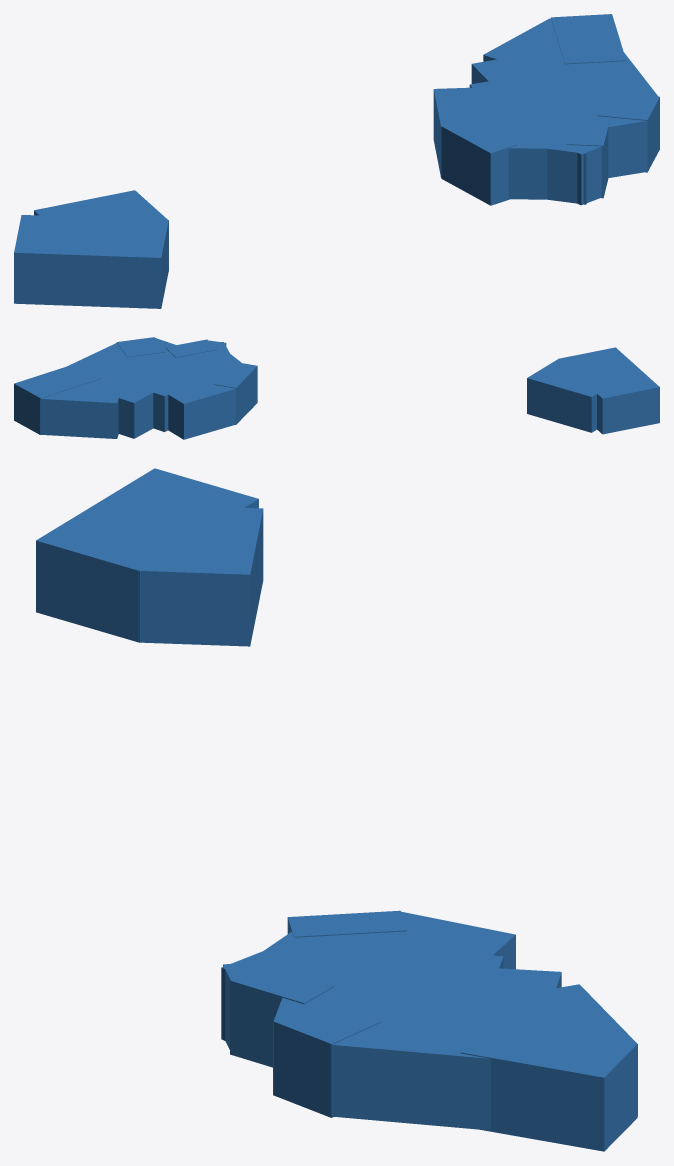
Rendered from p_Puddle_IJ.fbx.
3 renders of one model, top to bottom at view 1: azimuth 30°, elevation 25°; view 2: azimuth 150°, elevation 25°; view 3: azimuth 270°, elevation 25°, orthographic. The views are drawn at different scales.
Visible parts, largest first — view 1: Water__10_, Water__5_, Water__8_, Water__11_, Water__12_, Water__4_, Water__9_, Water__16_, Water__7_, Water__15_, Water__13_, Water__17_ (+2 smaller); view 2: Water__10_, Water__11_, Water__5_, Water__7_, Water__4_, Water__12_, Water__13_, Water__8_, Water__6_, Water__15_, Water__17_, Water__9_ (+1 smaller); view 3: Water__10_, Water__12_, Water__11_, Water__6_, Water__5_, Water__15_, Water__17_, Water__4_, Water__7_, Water__13_, Water__8_, Water__9_ (+1 smaller).
Boxes of the visible parts, x1,y1,x2,y2 form: Water__10_: (14,215,168,308); Water__5_: (469,64,647,177); Water__8_: (441,117,516,205); Water__11_: (34,190,168,271); Water__12_: (551,14,626,64); Water__4_: (433,86,504,177); Water__9_: (494,132,564,199); Water__16_: (545,133,591,204); Water__7_: (483,18,560,68); Water__15_: (596,92,659,172); Water__13_: (471,49,585,83); Water__17_: (567,117,610,198); Water__10_: (559,347,659,434); Water__11_: (527,358,623,432); Water__5_: (91,338,227,431); Water__7_: (41,384,121,438); Water__4_: (158,373,235,439); Water__12_: (14,363,101,434); Water__13_: (84,373,154,438); Water__8_: (214,362,257,424); Water__6_: (67,343,130,373); Water__15_: (116,337,165,357); Water__17_: (165,339,217,357); Water__9_: (203,349,241,372); Water__10_: (36,468,258,642); Water__12_: (460,1018,637,1151); Water__11_: (138,504,263,646); Water__6_: (330,1025,490,1130); Water__5_: (273,945,503,1094); Water__15_: (273,998,381,1117); Water__17_: (230,963,334,1067); Water__4_: (363,911,515,969); Water__7_: (507,984,637,1115); Water__13_: (475,968,561,1029); Water__8_: (287,910,406,937); Water__9_: (251,931,348,970).
Size of the model in its own units: 1555 by 226 by 760.
